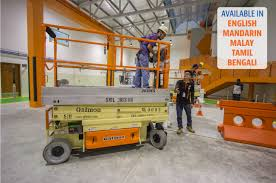Scissor Lift: (40, 22, 172, 167)
